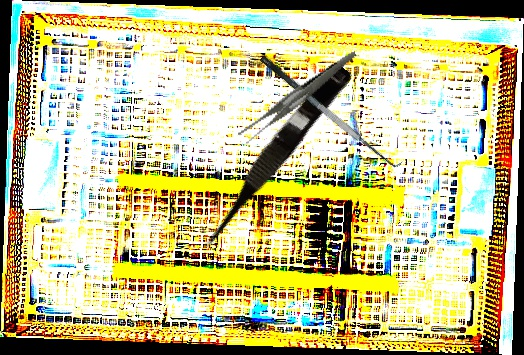Dressing Forceps: (225, 51, 372, 146)
Micro Scissor: (191, 58, 354, 255)
Spatula Surgical: (258, 43, 407, 176)
